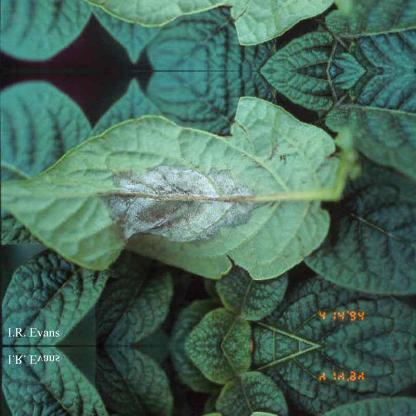Late-Blight: (0, 98, 346, 282), (0, 0, 346, 42)
